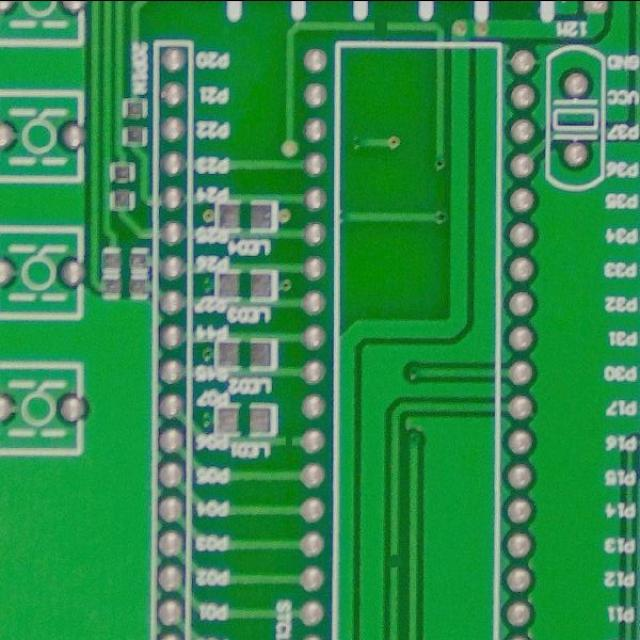open_circuit: (371, 18, 394, 33), (278, 432, 298, 449), (386, 551, 401, 572)
